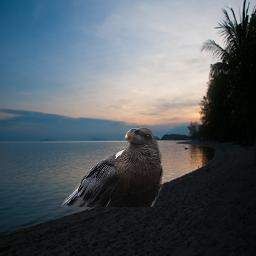Crow: (60, 125, 165, 207)
